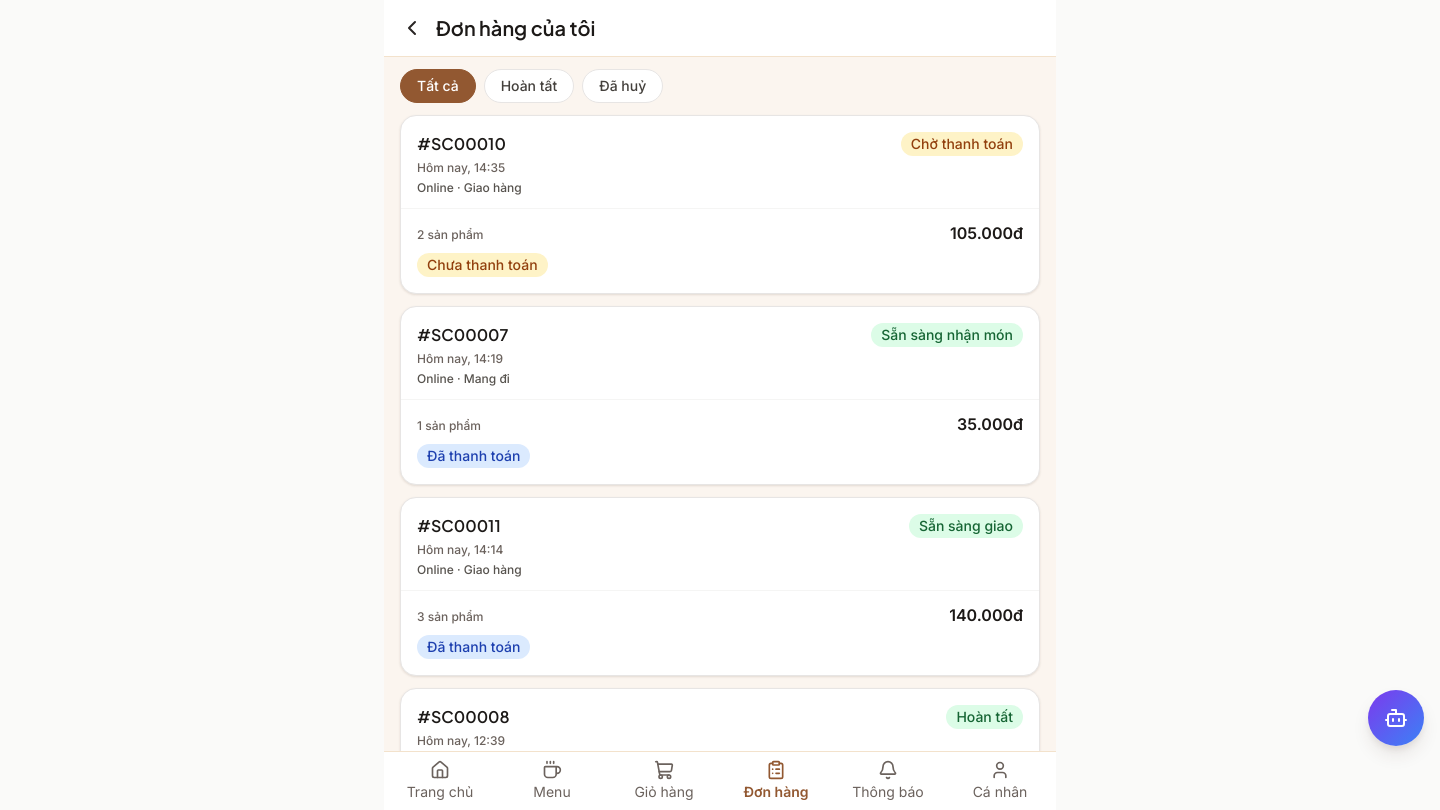
Test: /orders — lịch sử đơn hàng (GET /orders/me) › thẻ đơn dẫn tới trang theo dõi đơn (/orders/:id)
Step 1. Click the link "#SC00007" → point(463, 335), box [417,323,508,347]
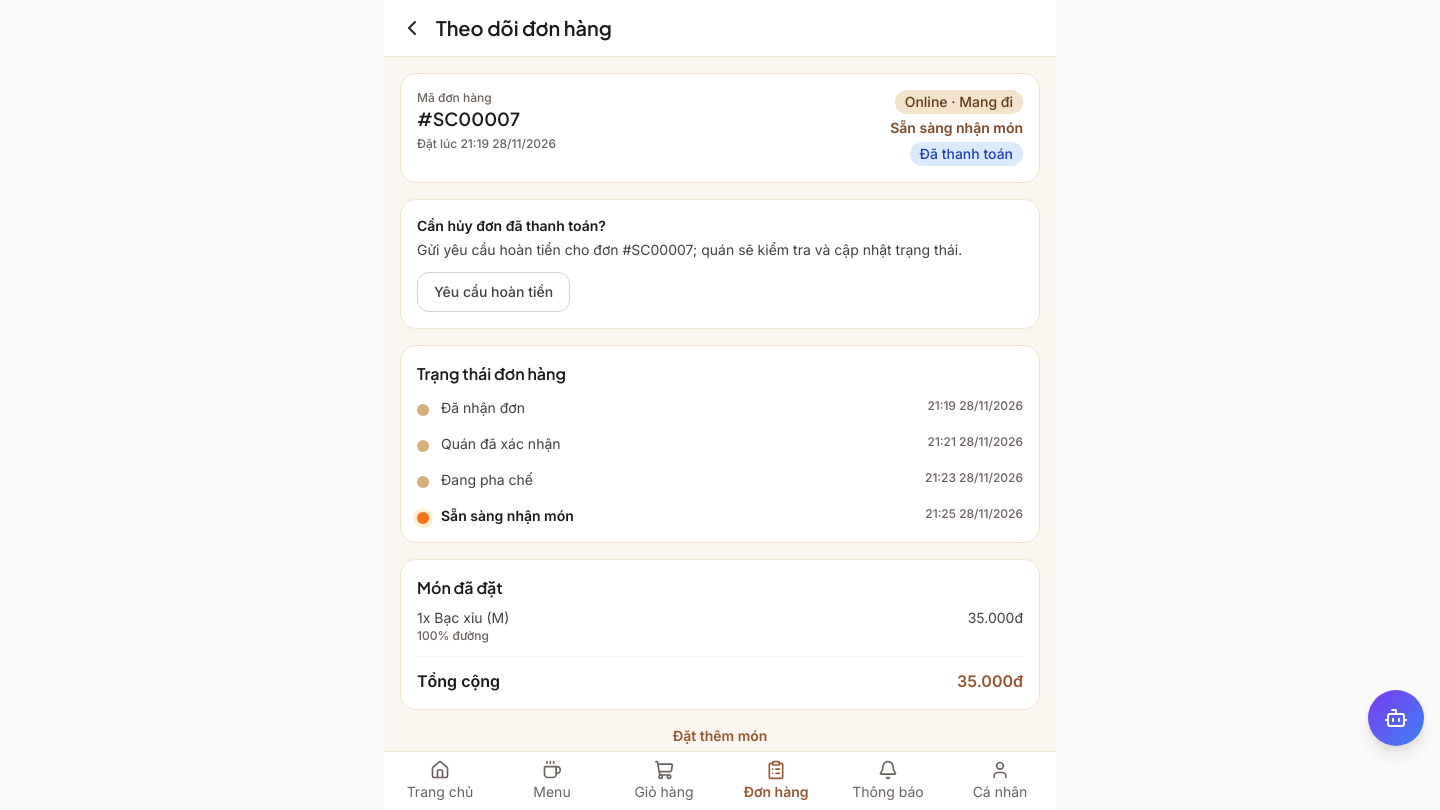
Now the heading "Theo dõi đơn hàng" is shown, box [436,14,612,42]
